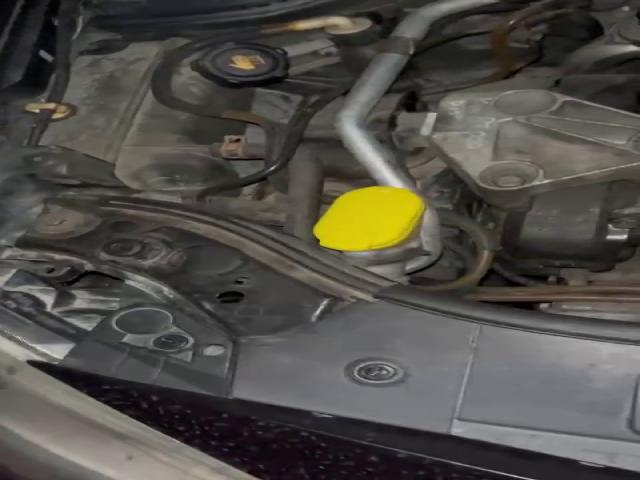antifreeze_tank: (40, 38, 247, 191), (172, 43, 287, 113)
